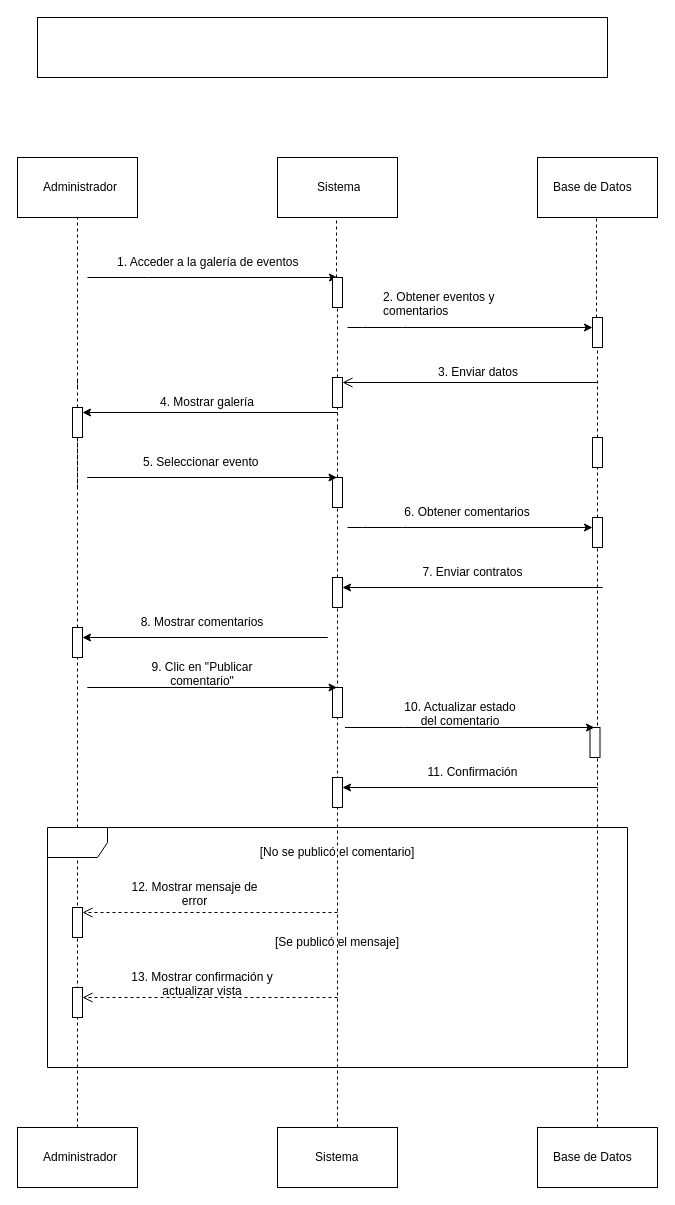
The diagram is 675 pixels wide and 1205 high, and some of its shapes have lost their labels. Here are the shapes that lost their labels. From the top down, the box of each, then its label:
(36, 16, 608, 78): SELECCIONAR COMENTARIOS PÚBLICOS
(46, 826, 628, 1068): alt
